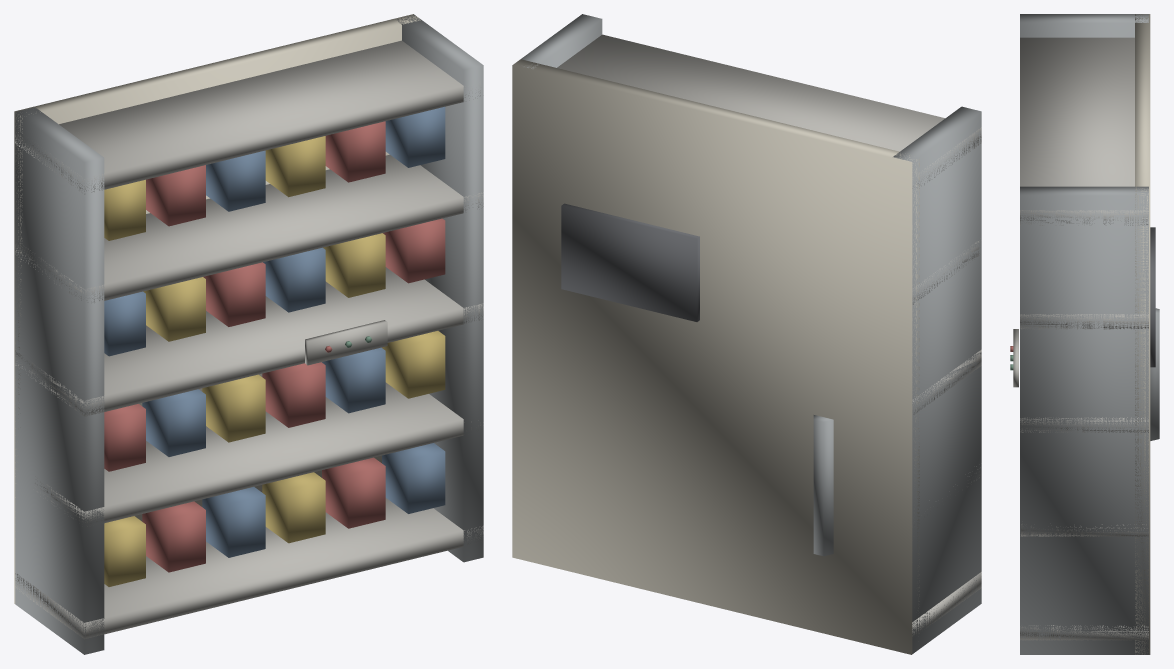
File: retail_gondola__service.glb
3 renders of one model, left to right at view 1: azimuth 30°, elevation 25°; view 2: azimuth 150°, elevation 25°; view 3: azimuth 270°, elevation 25°, orthographic. The views are drawn at different scales.
Visible parts, largest first — view 1: world; view 2: world; view 3: world.
Boxes of the visible parts, box(x1,y1,x2,y2) form: world: box(14, 14, 483, 654); world: box(512, 14, 981, 654); world: box(1010, 14, 1159, 654).
Bounding box in the file's own units: 1.4 × 1.65 × 0.4863.
